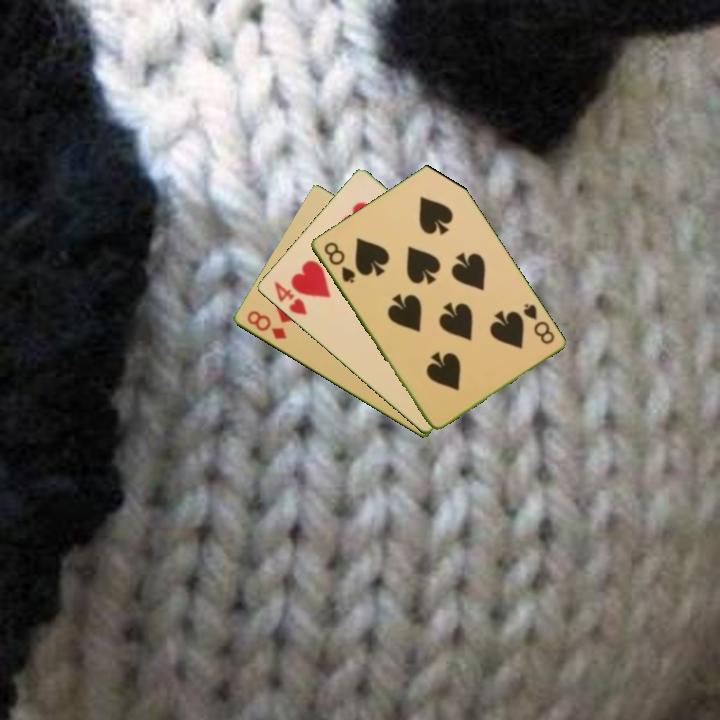4h: (270, 278, 310, 318)
8d: (243, 307, 289, 342)
8s: (320, 238, 358, 286), (519, 300, 557, 347)
